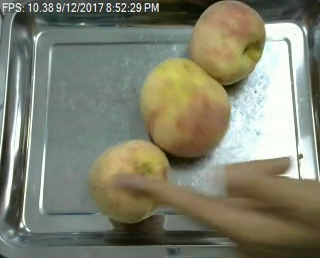Peach: (139, 56, 230, 157), (88, 139, 167, 223), (188, 0, 265, 86)
